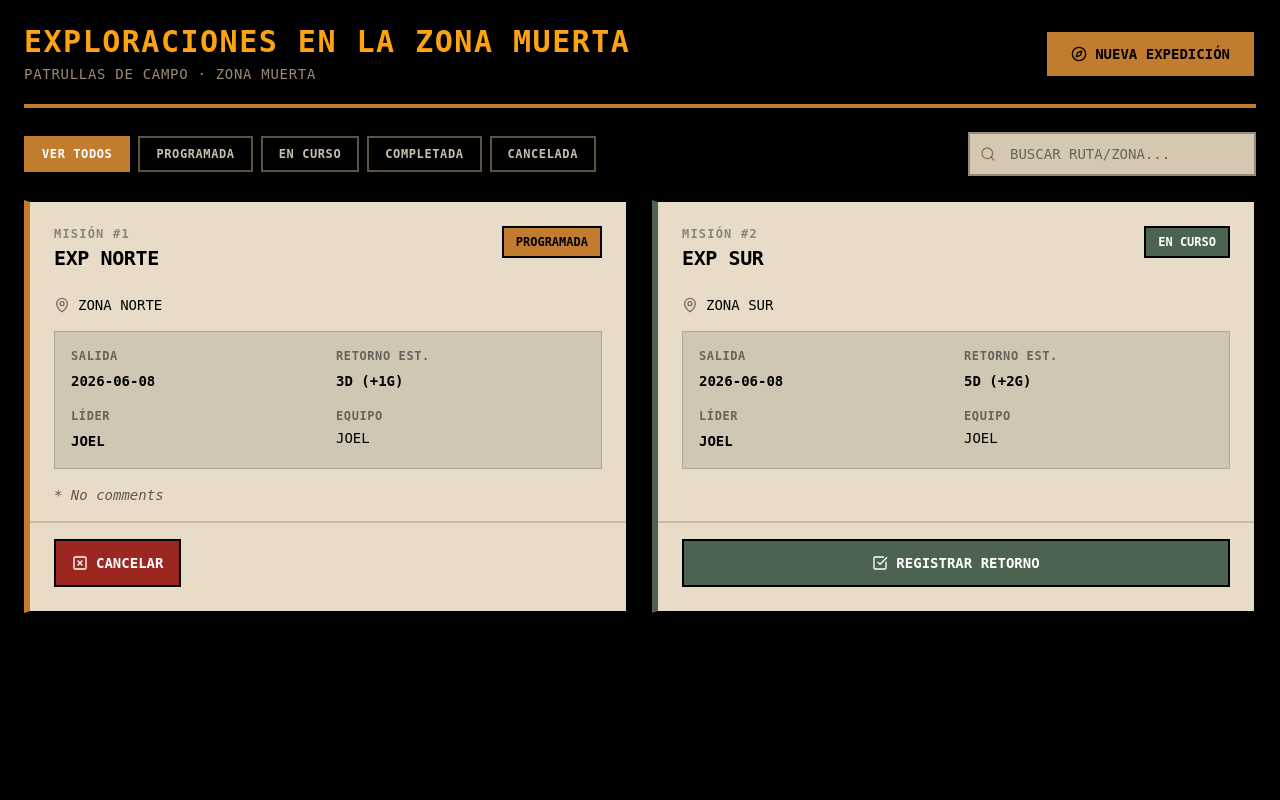
ExplorationsView Component › filters explorations by search query
Type "Norte" into the field with placeholder "BUSCAR RUTA/ZONA..." at (1112, 154), box left=968, top=132, right=1256, bottom=176
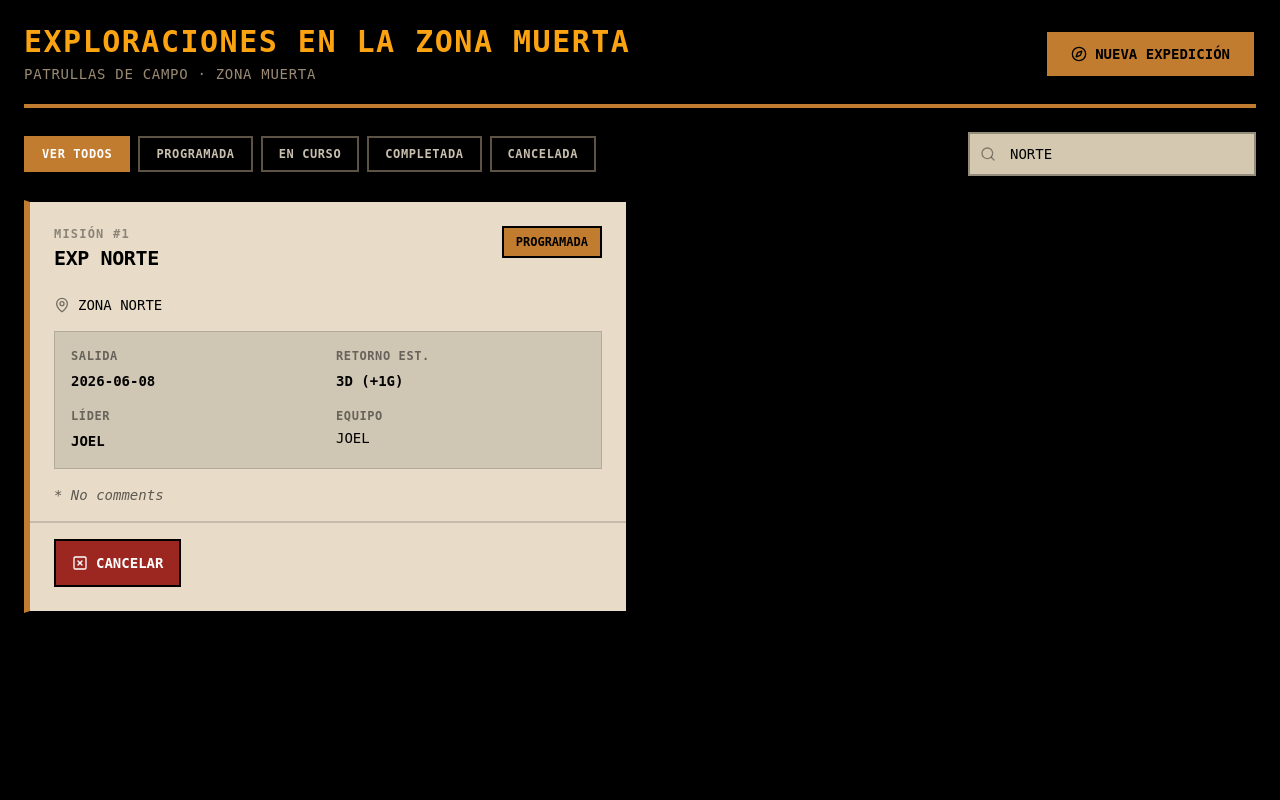
expect the heading "Exp Norte" is shown: met, box left=54, top=246, right=159, bottom=270
expect the heading "Exp Sur" is gone: met
